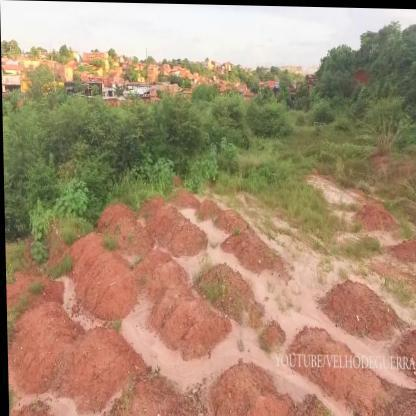agua: (128, 318, 201, 395), (256, 274, 326, 345)
